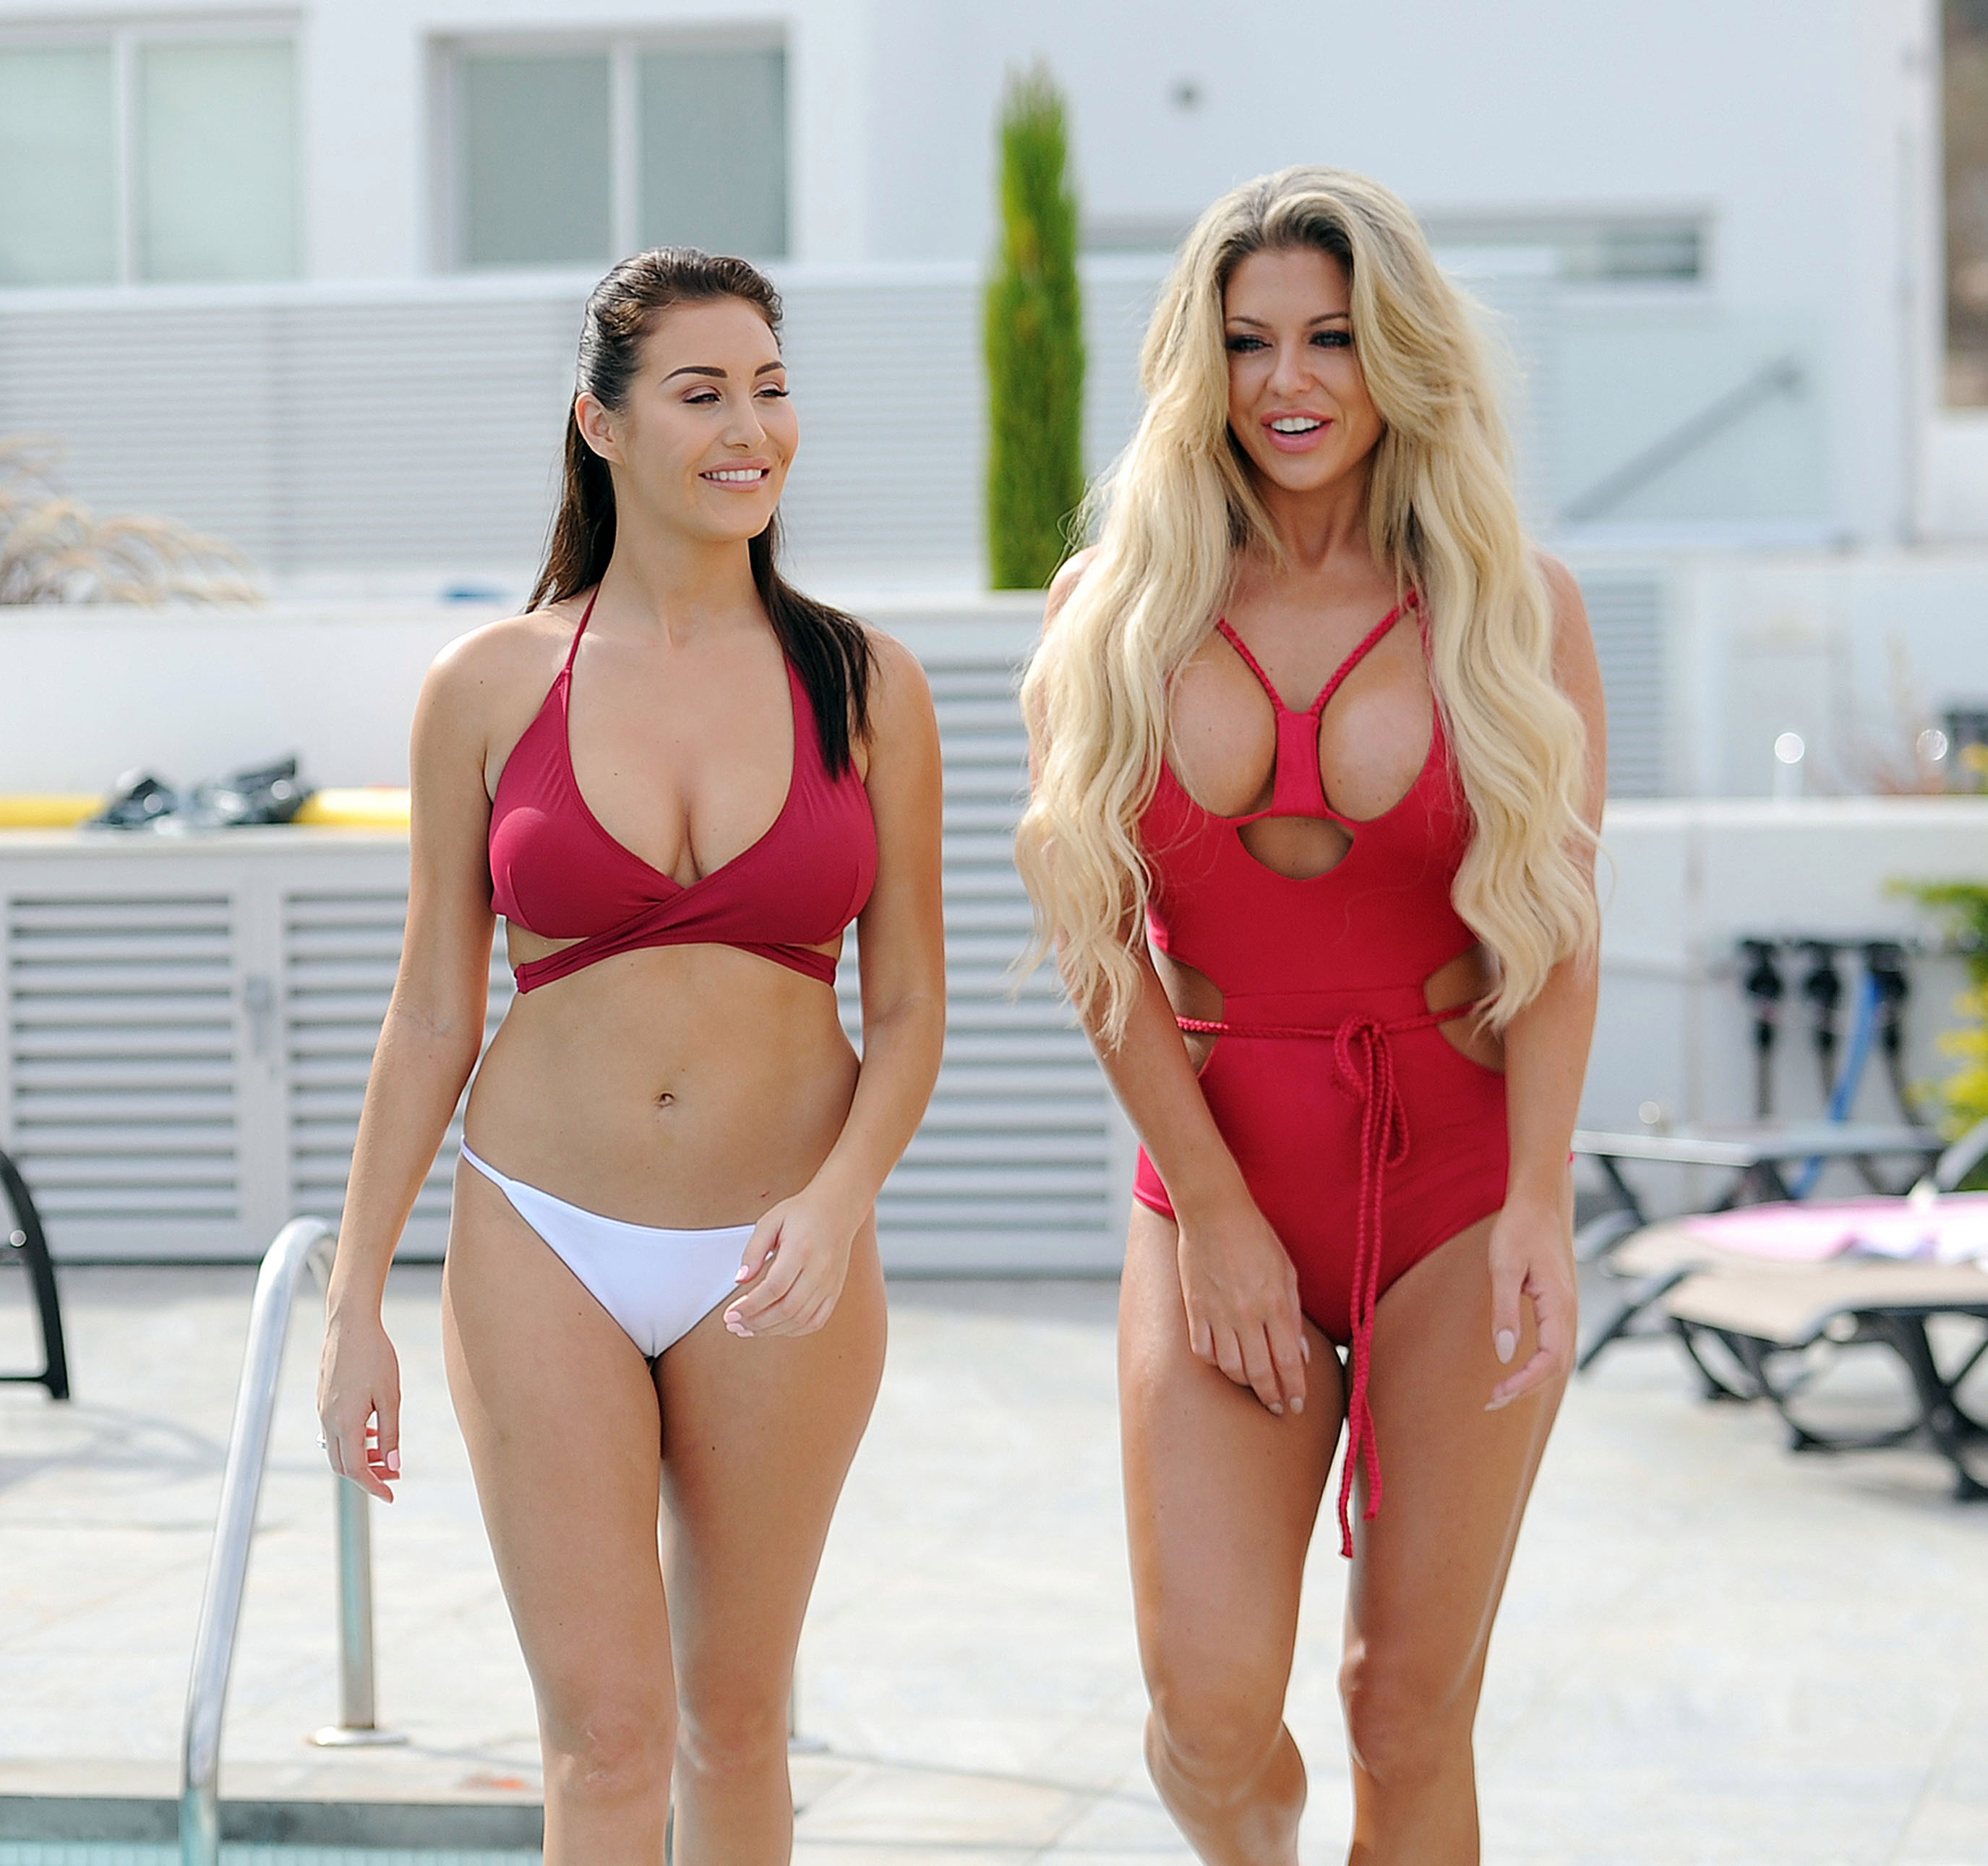Person: (930, 116, 1645, 1866), (294, 228, 987, 1866)
